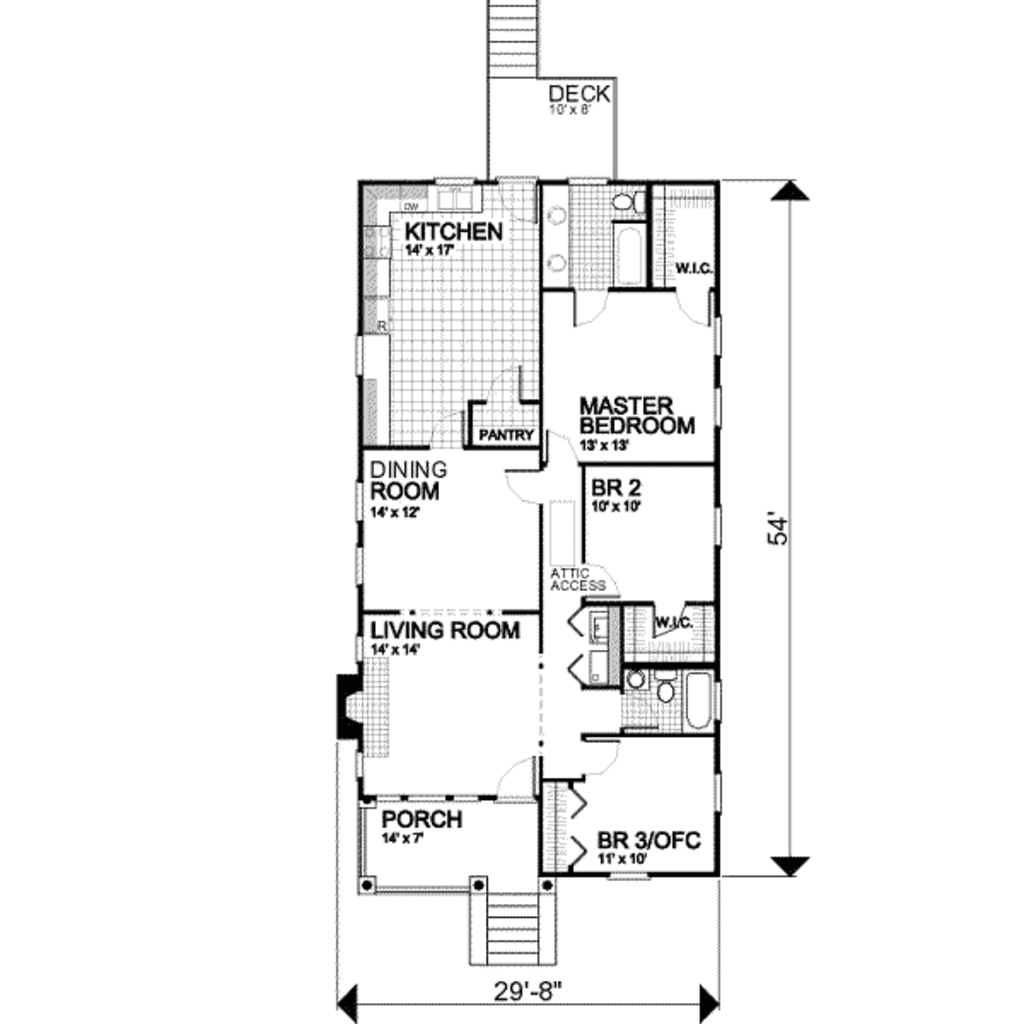door: (566, 284, 623, 339), (538, 419, 585, 482), (479, 357, 528, 403), (504, 460, 547, 512), (488, 762, 539, 800), (426, 408, 473, 449), (580, 733, 619, 778), (652, 595, 690, 639), (673, 281, 698, 333)
large_sink: (653, 665, 687, 708), (599, 181, 644, 211)
small_sink: (536, 170, 574, 290), (617, 668, 653, 695)
stairs: (485, 1, 626, 184), (463, 882, 563, 970)
tub: (606, 208, 650, 282), (676, 662, 719, 735)
twin_sink: (431, 178, 484, 219)
window: (346, 328, 385, 385), (350, 476, 369, 582), (704, 498, 730, 563), (703, 311, 733, 362), (604, 865, 661, 887), (707, 385, 731, 432), (707, 770, 731, 811)
